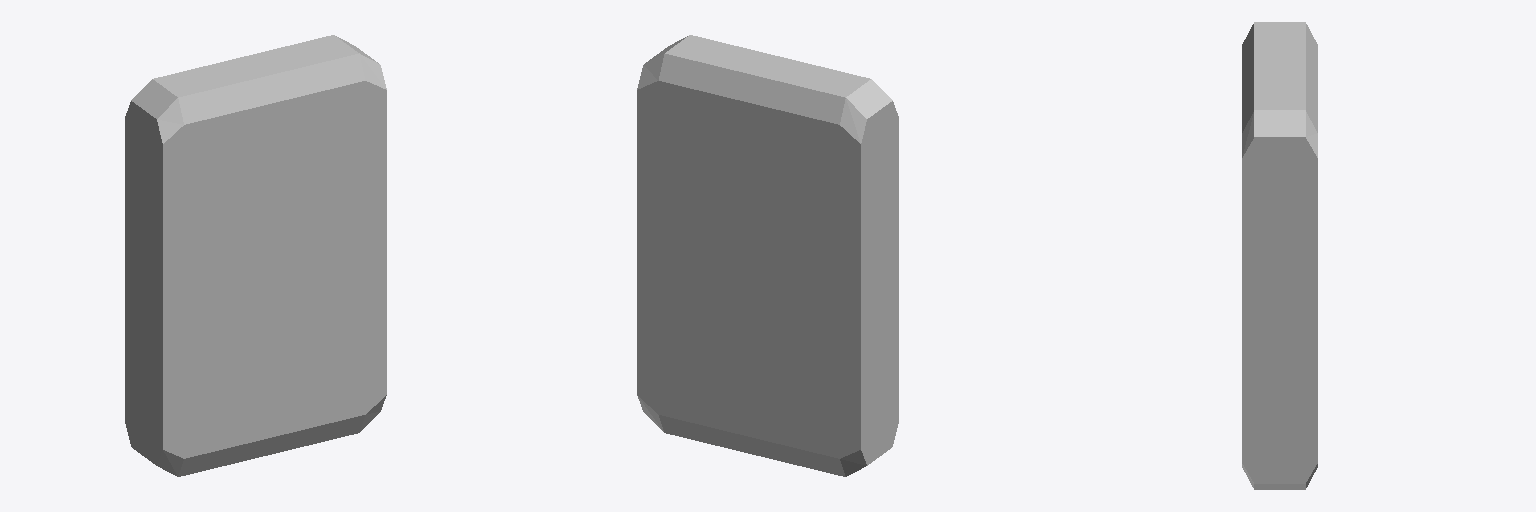
File: Obstacle_Wall.obj
3 renders of one model, left to right at view 1: azimuth 30°, elevation 25°; view 2: azimuth 150°, elevation 25°; view 3: azimuth 270°, elevation 25°, orthographic.
Parts seen in each view (by area): view 1: Obstacle_Wall_Cube; view 2: Obstacle_Wall_Cube; view 3: Obstacle_Wall_Cube.
Part boxes in pixels (x1,y1,x2,y2): Obstacle_Wall_Cube: (125,35,386,476); Obstacle_Wall_Cube: (637,35,898,476); Obstacle_Wall_Cube: (1242,22,1317,489).
Size of the model in its own units: 6.85 by 11.09 by 2.